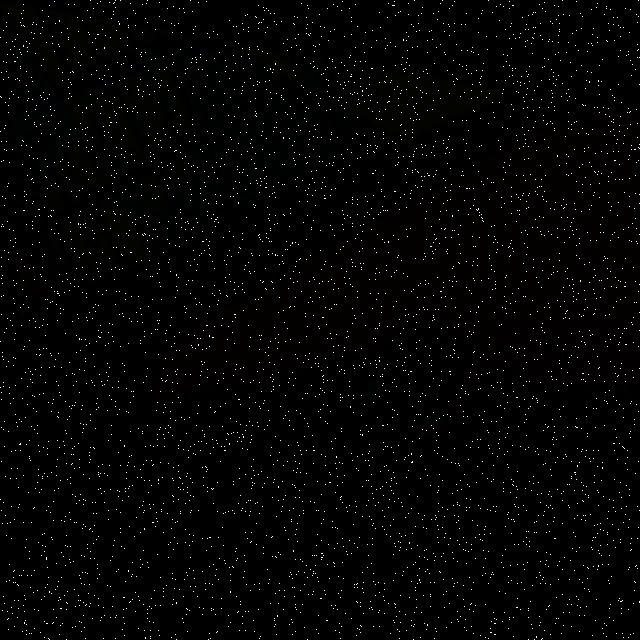adapter: (356, 299, 500, 520)
